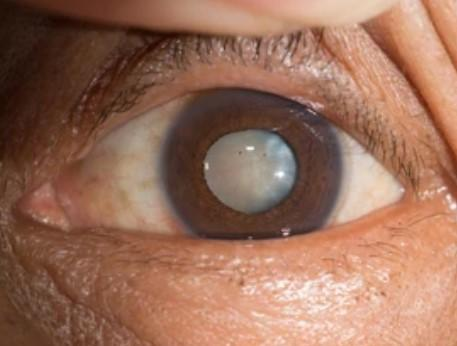eye: (167, 88, 339, 237)
